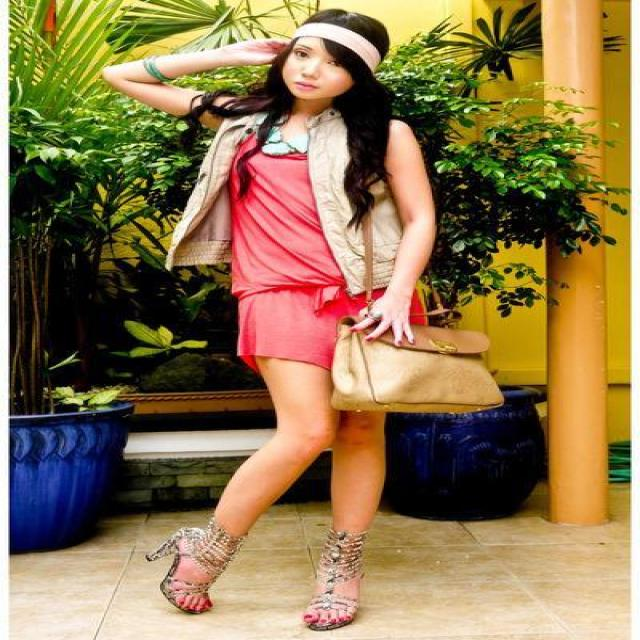bag: (322, 320, 502, 421)
dress: (213, 146, 459, 380)
jacket: (164, 95, 433, 299), (413, 244, 432, 294)
shoe: (164, 525, 382, 630)
